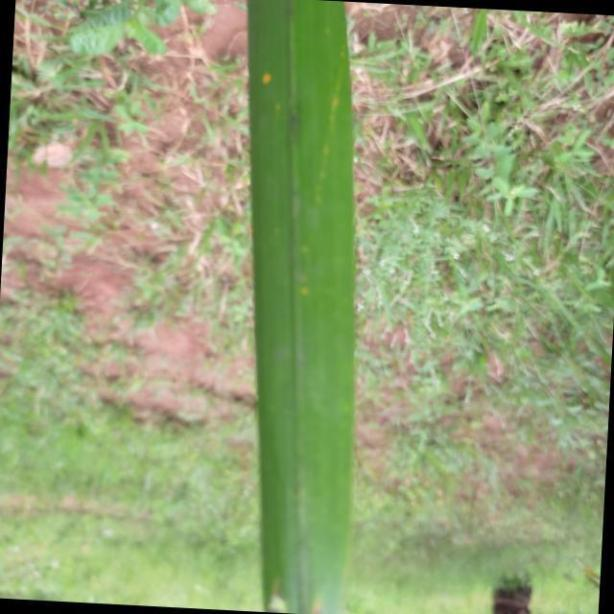Kalium: (246, 0, 355, 614)
